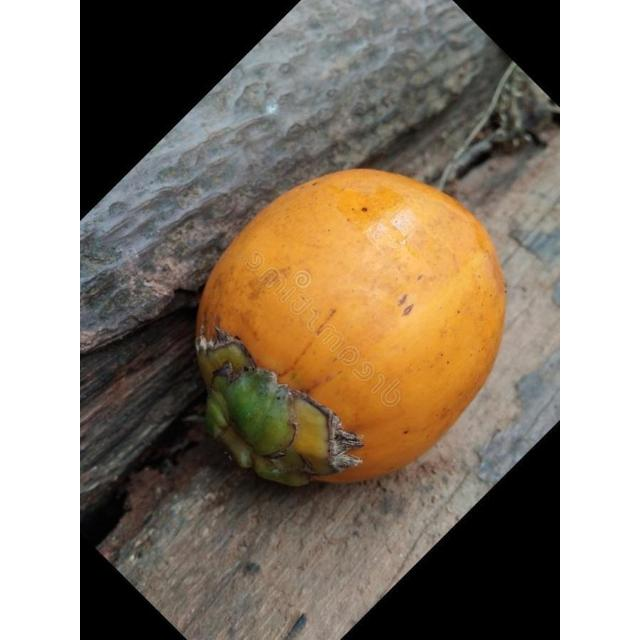good: (194, 169, 506, 490)
